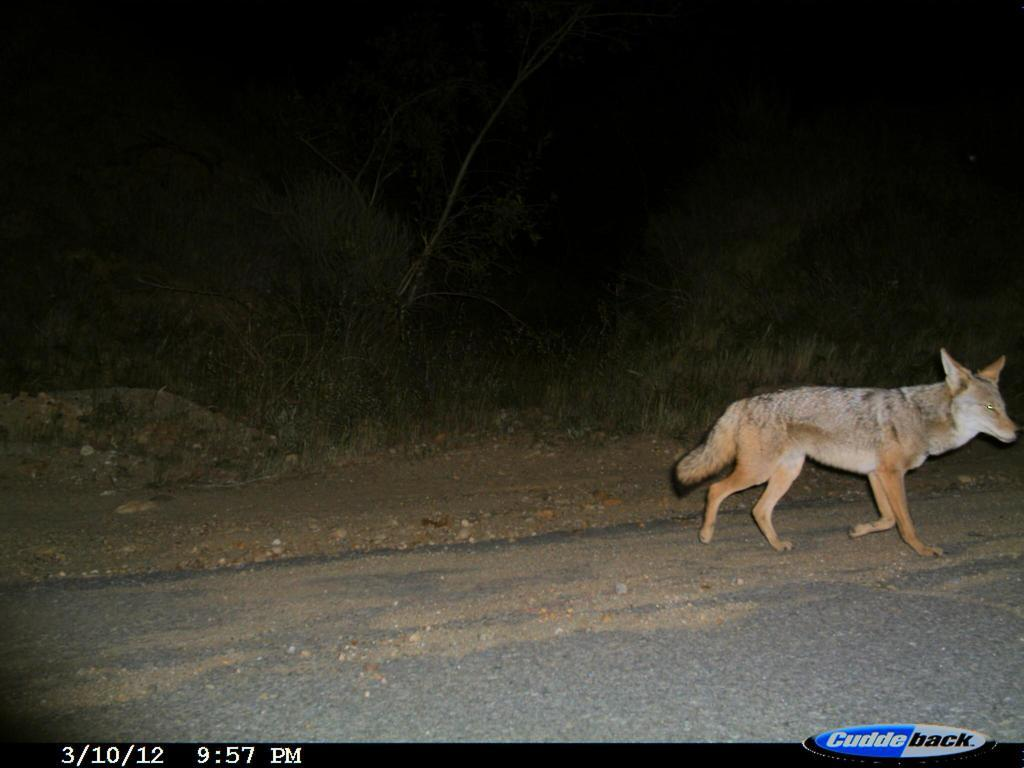coyote: (665, 340, 1021, 566)
